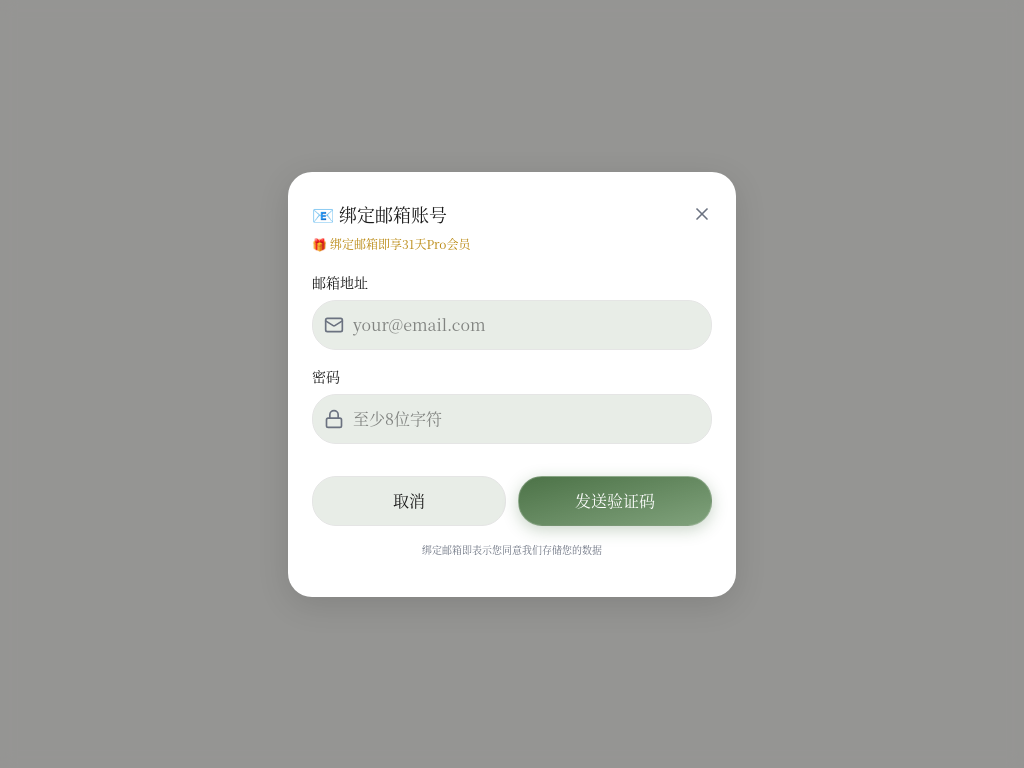
Test: AuthModal — 注册步骤 1：密码强度验证 › 密码 < 8 位 → 显示「密码至少需要8位字符」
Type "test@test.com" into the field with placeholder "your@email.com" at (512, 324), box [312,300,712,350]
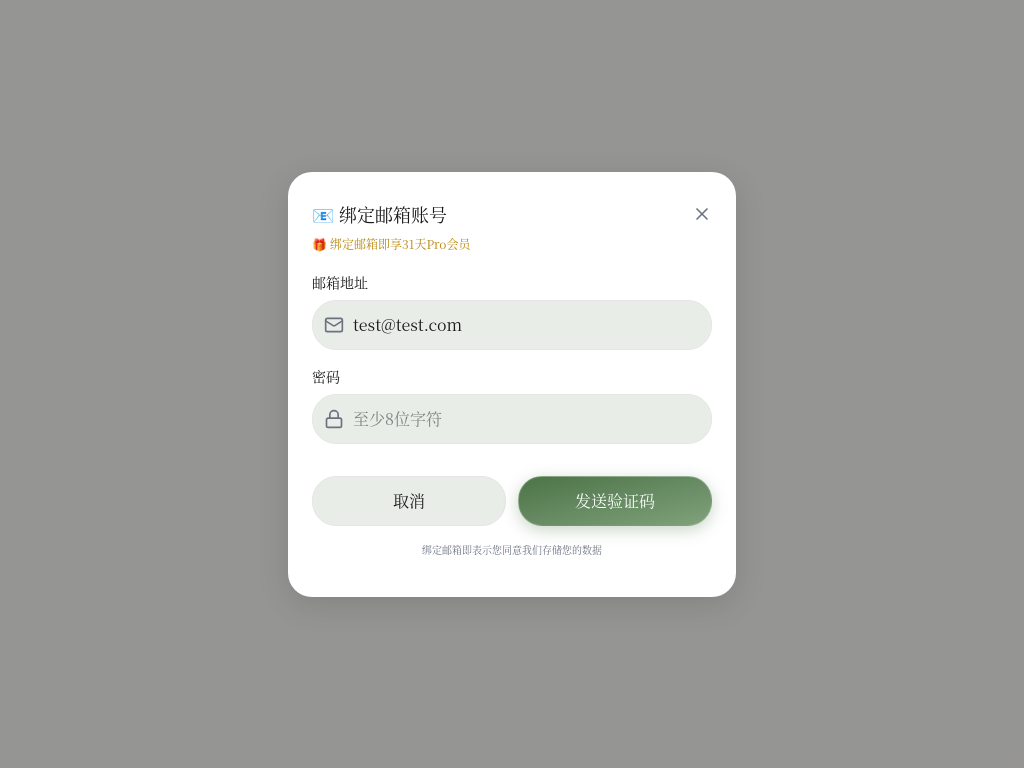
Type "Ab1" into the password field with placeholder "至少8位字符" at (512, 418), box [312,394,712,444]
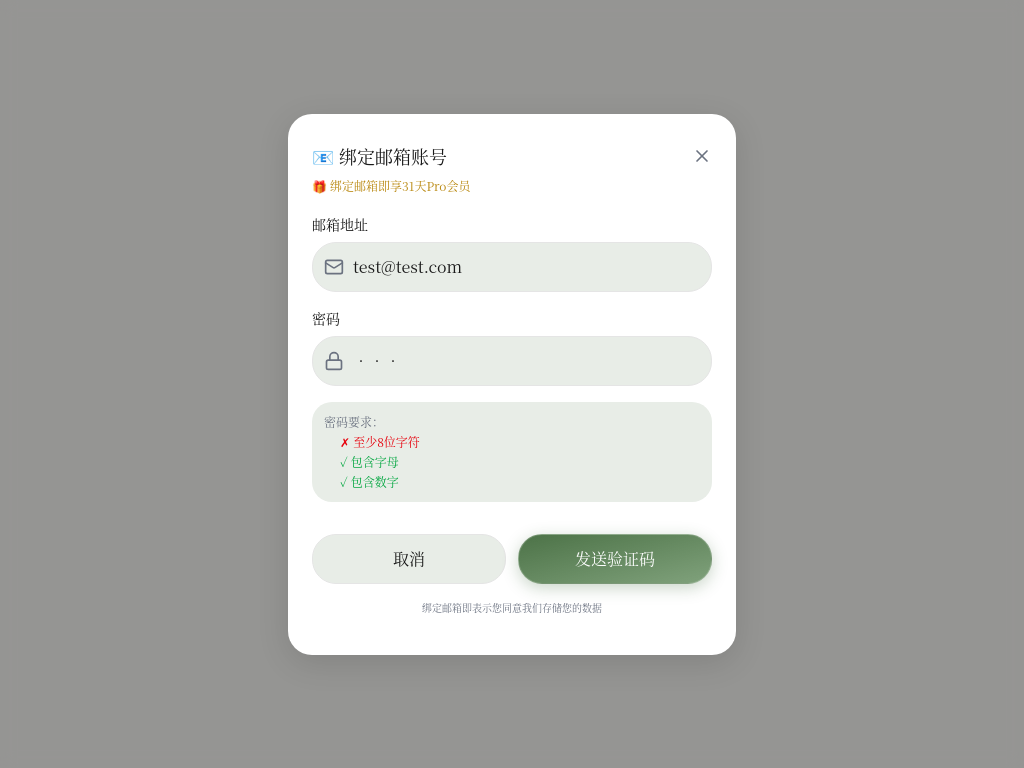
Click the button "发送验证码" at (615, 558), box [518,534,712,584]
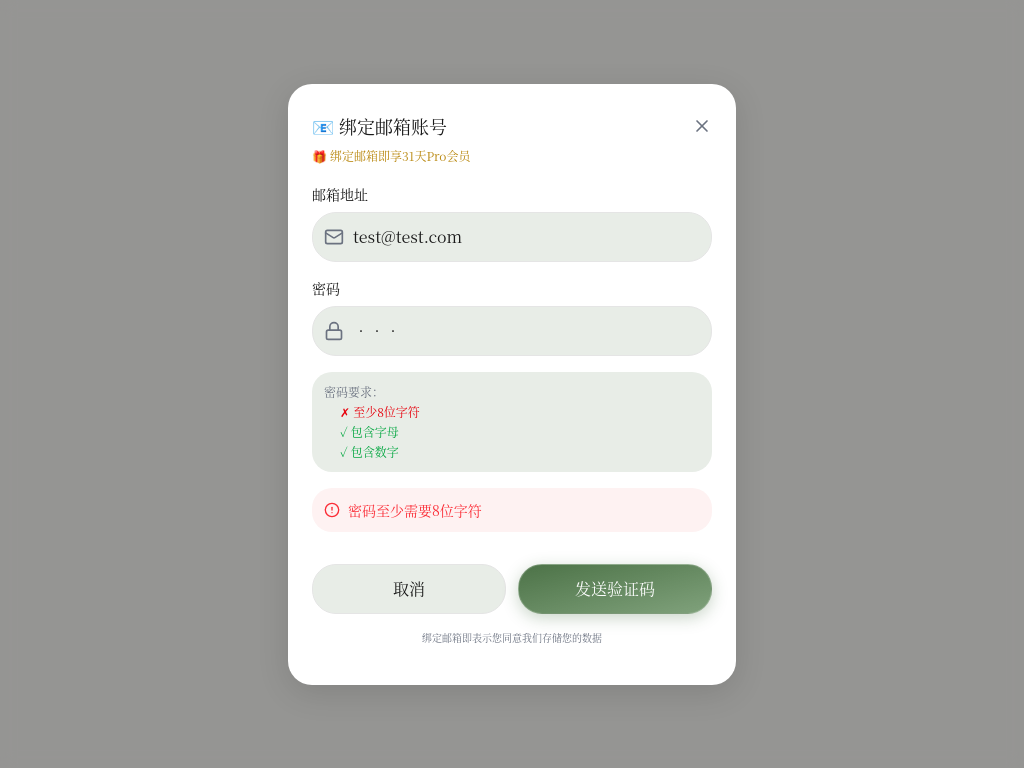
Expected: the text "密码至少需要8位字符" is shown, [312,488,712,532]
